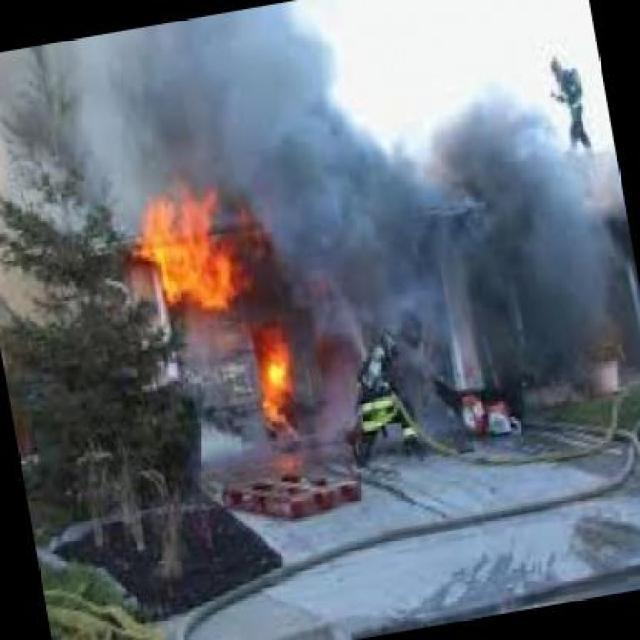Fire: (136, 190, 246, 309), (256, 328, 301, 426)
Smoke: (292, 28, 608, 404), (45, 34, 300, 187)
